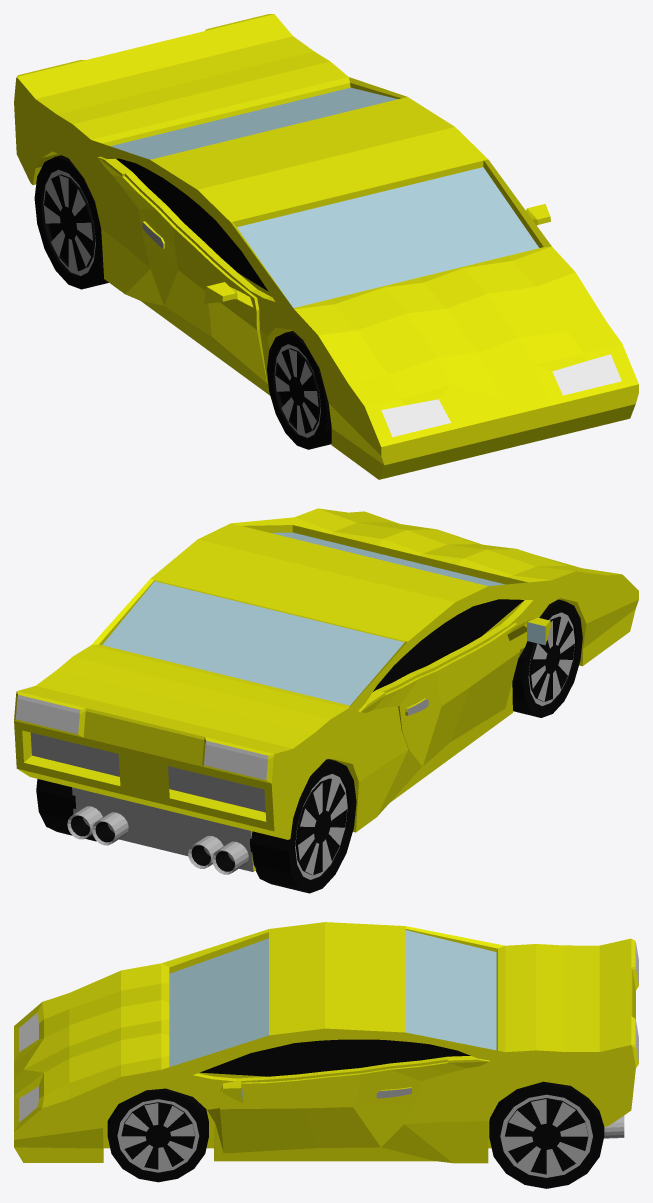
File: Chrollo.fbx
3 renders of one model, top to bottom at view 1: azimuth 30°, elevation 25°; view 2: azimuth 150°, elevation 25°; view 3: azimuth 270°, elevation 25°, orthographic. The views are drawn at different scales.
Visible parts, largest first — view 1: Car, Back Tire, Front Tire; view 2: Car, Back Tire, Front Tire, Exhaust Pipes, Back Tire.001; view 3: Car, Back Tire.001, Front Tire.001.
Part boxes in pixels (<box>): Car: <box>14,14,638,479</box>; Back Tire: <box>34,155,108,289</box>; Front Tire: <box>267,331,331,449</box>; Car: <box>14,508,638,871</box>; Back Tire: <box>250,759,356,893</box>; Front Tire: <box>512,599,582,717</box>; Exhaust Pipes: <box>67,806,248,874</box>; Back Tire.001: <box>36,779,96,841</box>; Car: <box>14,922,638,1163</box>; Back Tire.001: <box>489,1081,604,1188</box>; Front Tire.001: <box>107,1088,208,1182</box>.
Size of the model in its own units: 526 by 281 by 984.
